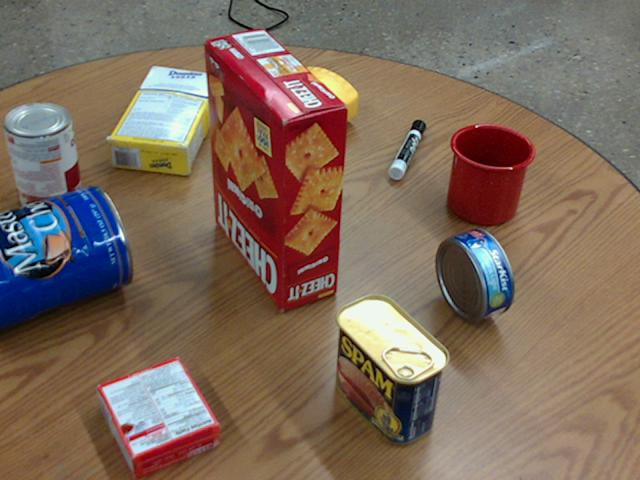cracker_box: (204, 28, 347, 310)
gelatin_box: (97, 356, 220, 477)
large_marker: (389, 120, 426, 178)
master_chef_can: (0, 183, 131, 330)
mug: (445, 123, 534, 224)
mustard_bottle: (223, 68, 358, 158)
potted_meat_can: (334, 294, 450, 444)
sugar_box: (107, 64, 221, 174)
tomato_soup_can: (4, 102, 82, 216)
tuna_fish_can: (436, 227, 513, 321)
